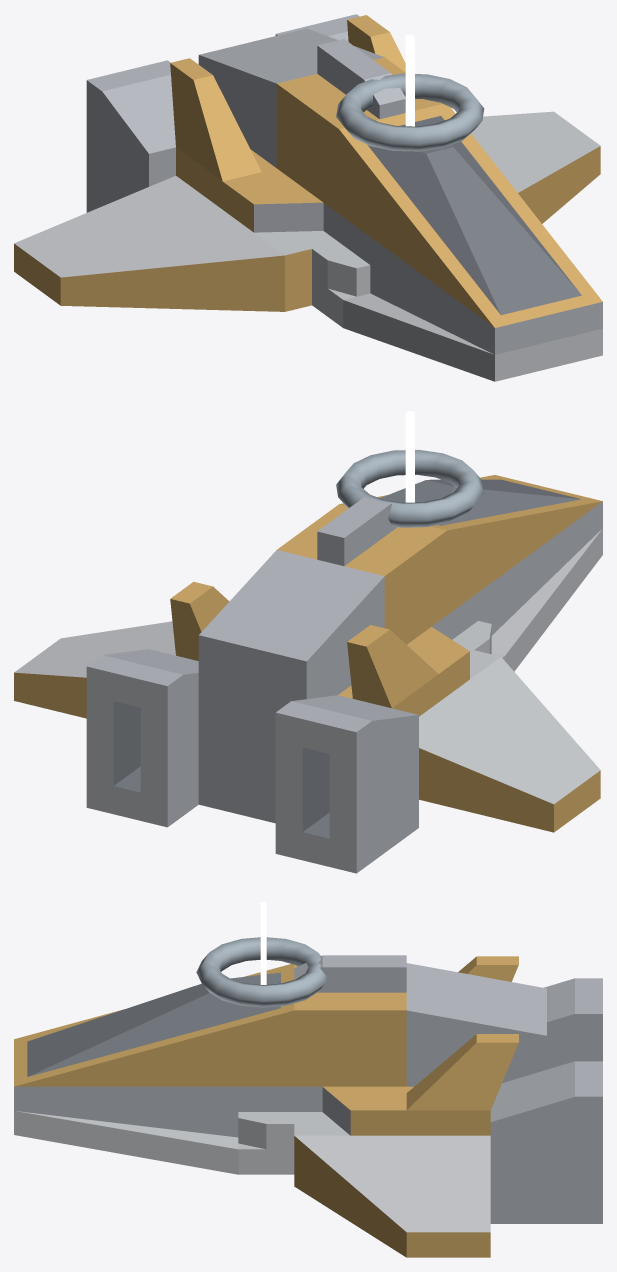
The model's file is npc_shuttle.glb.
3 views of the same model, one above another, from view 1: azimuth 30°, elevation 25°; view 2: azimuth 150°, elevation 25°; view 3: azimuth 270°, elevation 25° (orthographic). The views are drawn at different scales.
Visible parts, largest first — view 1: npc_shuttle; view 2: npc_shuttle; view 3: npc_shuttle.
Part boxes in pixels (<box>): npc_shuttle: <box>14,14,602,381</box>; npc_shuttle: <box>14,410,602,873</box>; npc_shuttle: <box>14,902,602,1257</box>.
Size of the model in its own units: 1.63 by 0.8352 by 1.71.
